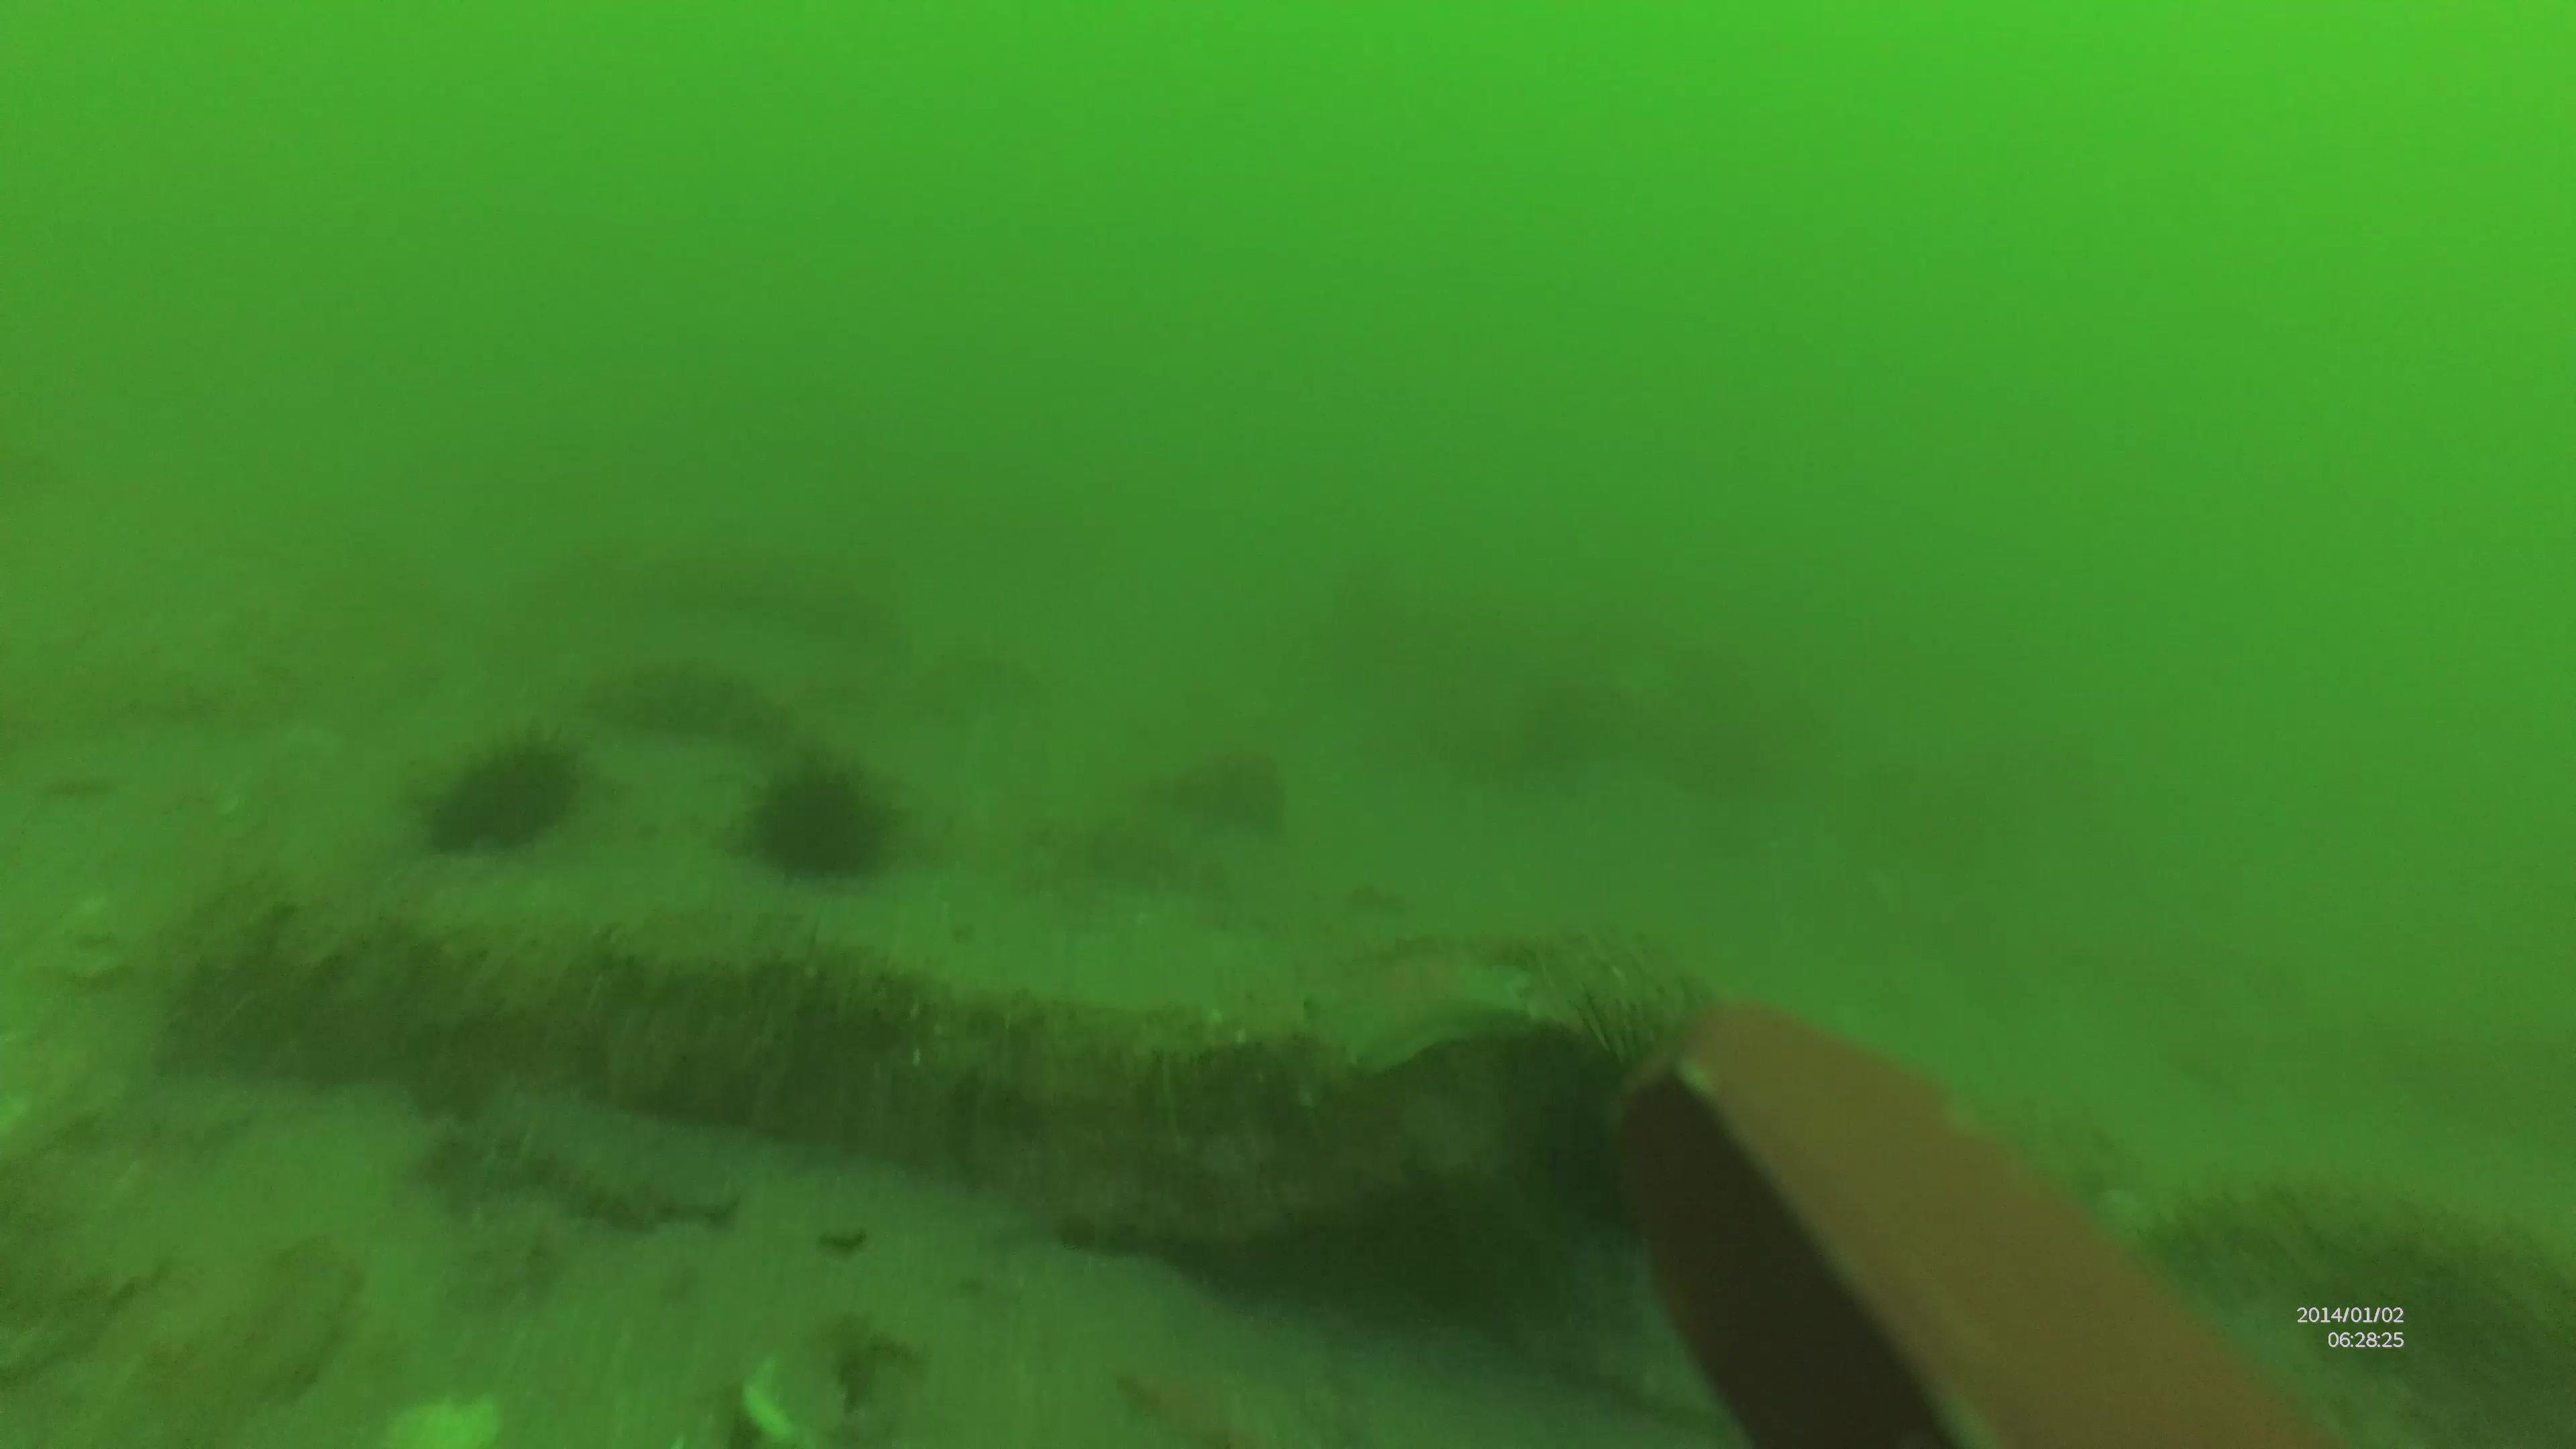echinus: (1546, 980, 1706, 1240), (418, 727, 589, 858), (748, 747, 886, 885)
